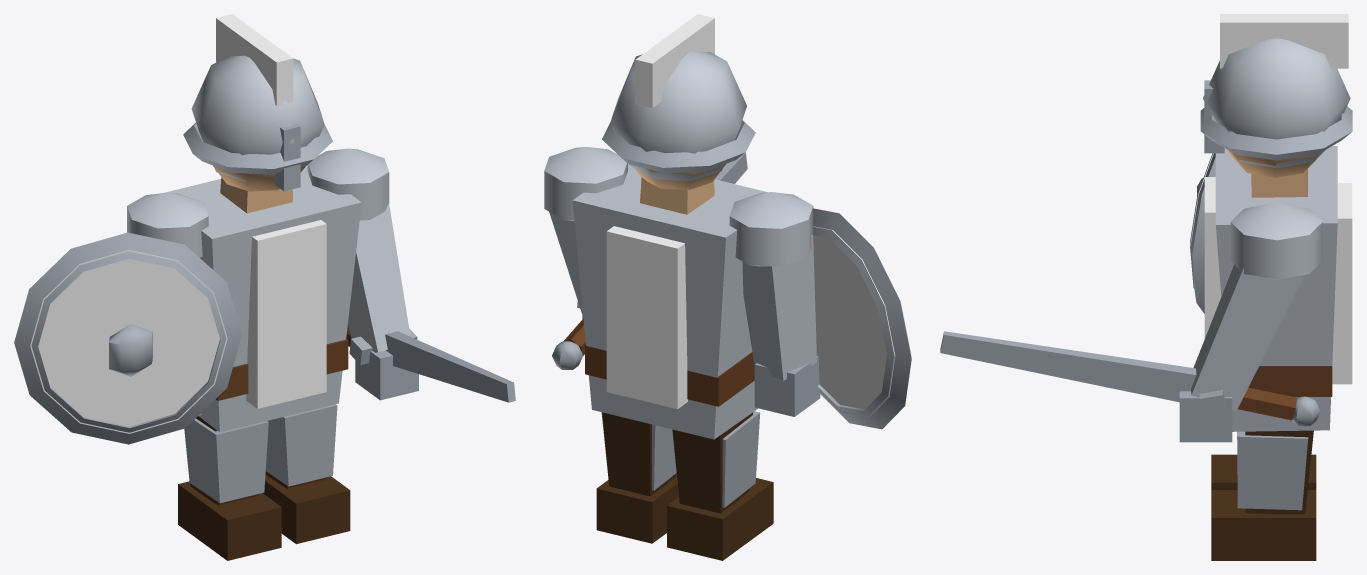
The model's file is Soldier_SecondAge.glb.
3 renders of one model, left to right at view 1: azimuth 30°, elevation 25°; view 2: azimuth 150°, elevation 25°; view 3: azimuth 270°, elevation 25°, orthographic. The views are drawn at different scales.
Visible parts, largest first — view 1: Metal, Left_Team, Team, Left_Steel, Right_Steel, Right_Metal, LegA_Dark, LegA_Steel, LegB_Steel, LegB_Dark, Steel, Skin (+1 smaller); view 2: Metal, Team, Left_Team, Left_Steel, LegA_Dark, Left_Metal, LegB_Dark, Steel, Leather, LegA_Steel, Skin, LegB_Steel (+2 smaller); view 3: Metal, Right_Steel, Team, Right_Metal, LegB_Dark, LegB_Steel, Steel, Skin, Leather, Left_Steel, Right_Leather, LegA_Dark.
Part boxes in pixels (x1,y1,x2,y2): Metal: (127,55,389,432); Left_Team: (30,250,227,433); Team: (216,14,326,408); Left_Steel: (14,232,241,444); Right_Steel: (349,329,515,402); Right_Metal: (348,203,410,352); LegA_Dark: (178,416,281,560); LegA_Steel: (184,418,268,503); LegB_Steel: (265,404,337,486); LegB_Dark: (263,471,350,544); Steel: (183,122,332,191); Skin: (213,165,305,213); Metal: (544,51,813,439); Team: (606,14,714,409); Left_Team: (813,226,910,417); Left_Steel: (754,208,911,429); LegA_Dark: (667,412,773,560); Left_Metal: (742,235,816,380); LegB_Dark: (596,412,678,543); Steel: (602,120,755,173); Leather: (585,344,754,406); LegA_Steel: (672,411,760,507); Skin: (635,164,725,214); LegB_Steel: (601,412,676,490); Metal: (1203,38,1350,431); Right_Steel: (940,331,1320,442); Team: (1204,14,1352,384); Right_Metal: (1191,264,1304,410); LegB_Dark: (1211,430,1316,560); LegB_Steel: (1237,431,1308,510); Steel: (1200,80,1352,160); Skin: (1226,149,1316,197); Leather: (1248,366,1332,396); Left_Steel: (1190,153,1215,313); Right_Leather: (1238,387,1296,420); LegA_Dark: (1211,454,1316,489).
Size of the model in its own units: 0.6532 by 0.8325 by 0.6091.
